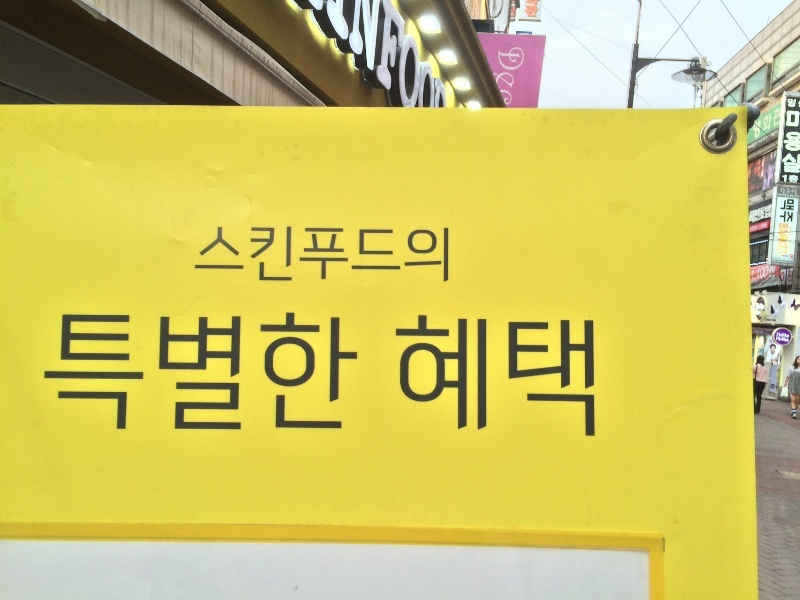text: (401, 314, 416, 442), (417, 314, 432, 442), (433, 314, 448, 442), (449, 314, 464, 442), (465, 314, 480, 442), (481, 314, 496, 442), (497, 314, 512, 442), (513, 314, 528, 442), (529, 314, 544, 442), (545, 314, 560, 442), (561, 314, 576, 442), (577, 314, 592, 442), (49, 311, 64, 433), (65, 311, 80, 433), (81, 311, 96, 433), (97, 311, 112, 433), (113, 311, 128, 433), (129, 311, 144, 433), (145, 311, 160, 433), (161, 311, 176, 433), (177, 311, 192, 433), (193, 311, 208, 433), (209, 311, 224, 433), (225, 311, 240, 433), (241, 311, 256, 433), (257, 311, 272, 433), (273, 311, 288, 433), (289, 311, 304, 433), (305, 311, 320, 433), (321, 311, 336, 433), (337, 311, 352, 433), (305, 1, 320, 110), (321, 1, 336, 110), (337, 1, 352, 110), (353, 1, 368, 110), (369, 1, 384, 110), (385, 1, 400, 110), (401, 1, 416, 110), (417, 1, 432, 110), (433, 1, 448, 110), (390, 314, 400, 442), (38, 311, 48, 433), (449, 1, 460, 110), (497, 46, 512, 110), (209, 225, 224, 287), (225, 225, 240, 287), (241, 225, 256, 287), (257, 225, 272, 287), (273, 225, 288, 287), (289, 225, 304, 287), (305, 225, 320, 287), (321, 225, 336, 287), (337, 225, 352, 287), (353, 225, 368, 287), (369, 225, 384, 287), (385, 225, 400, 287), (401, 225, 416, 287), (417, 225, 432, 287), (433, 225, 448, 287), (786, 111, 800, 174), (296, 1, 304, 110), (513, 46, 526, 110), (593, 314, 599, 442), (353, 311, 359, 433), (753, 107, 768, 139), (769, 107, 781, 139), (753, 129, 768, 151), (753, 204, 768, 224), (753, 264, 768, 282), (204, 225, 208, 287), (769, 129, 779, 151), (785, 200, 794, 224), (756, 303, 768, 317), (753, 222, 767, 233), (779, 224, 784, 254), (769, 264, 777, 282), (788, 270, 800, 282), (529, 5, 540, 18), (785, 174, 799, 183), (449, 225, 451, 287), (785, 224, 789, 254), (787, 99, 800, 108), (747, 129, 752, 151), (785, 188, 798, 196), (785, 193, 800, 199), (781, 200, 784, 224), (772, 259, 784, 265), (749, 204, 752, 224), (769, 204, 772, 224), (772, 262, 784, 267), (776, 336, 784, 343), (785, 259, 794, 265), (777, 332, 784, 339), (529, 1, 541, 5), (777, 193, 784, 199), (785, 262, 793, 267), (780, 272, 784, 282), (525, 5, 528, 18), (772, 257, 784, 260), (785, 332, 790, 339), (780, 188, 784, 196), (769, 318, 776, 322), (785, 336, 789, 343), (785, 257, 794, 260), (750, 222, 752, 233), (782, 174, 784, 183), (798, 100, 800, 108), (765, 318, 768, 322), (785, 255, 788, 258), (526, 1, 528, 5), (782, 255, 784, 258)
